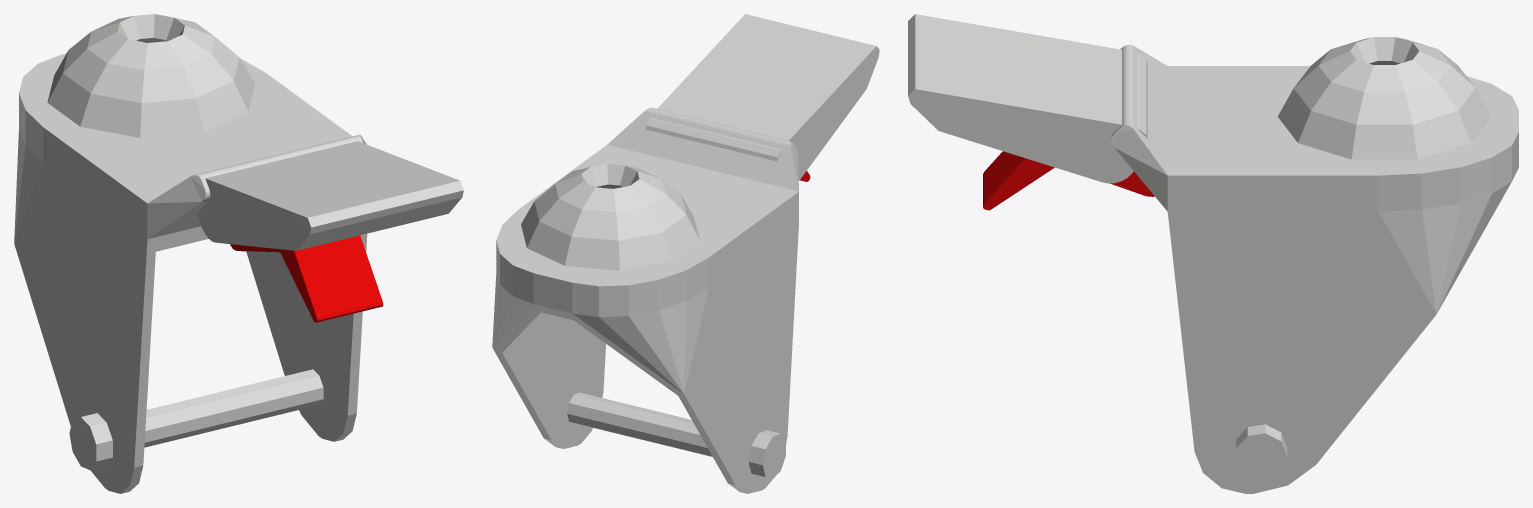
File: sup_wheels.dae
3 views of the same model, side by side, from view 1: azimuth 30°, elevation 25°; view 2: azimuth 150°, elevation 25°; view 3: azimuth 270°, elevation 25° (orthographic). The views are drawn at different scales.
Visible parts, largest first — view 1: Cube, Cube.001; view 2: Cube; view 3: Cube, Cube.001.
Part boxes in pixels (x1,y1,x2,y2): Cube: [14, 14, 463, 493]; Cube.001: [230, 235, 383, 322]; Cube: [492, 14, 879, 493]; Cube: [908, 14, 1518, 493]; Cube.001: [983, 151, 1154, 210].
Size of the model in its own units: 0.0809 by 0.1628 by 0.1141.
